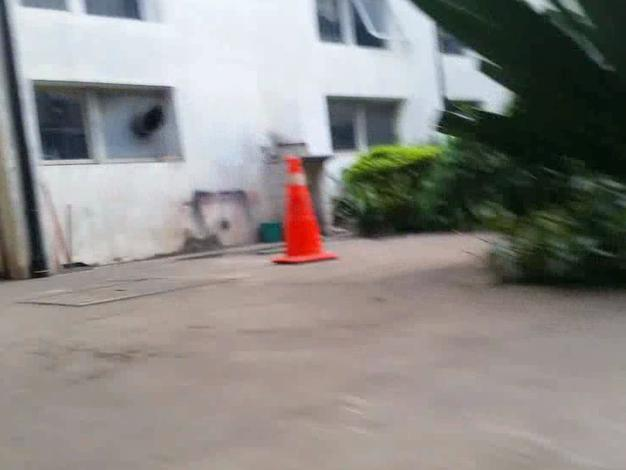0 cone: (271, 155, 339, 265)
